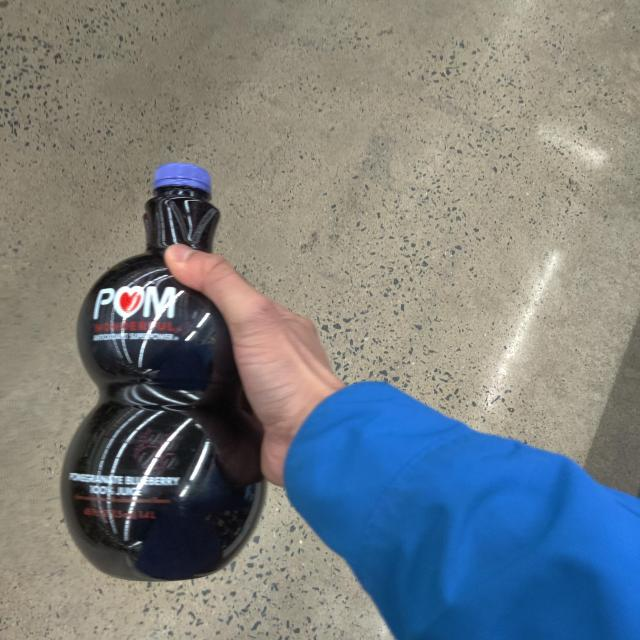Juice: (56, 149, 289, 584)
